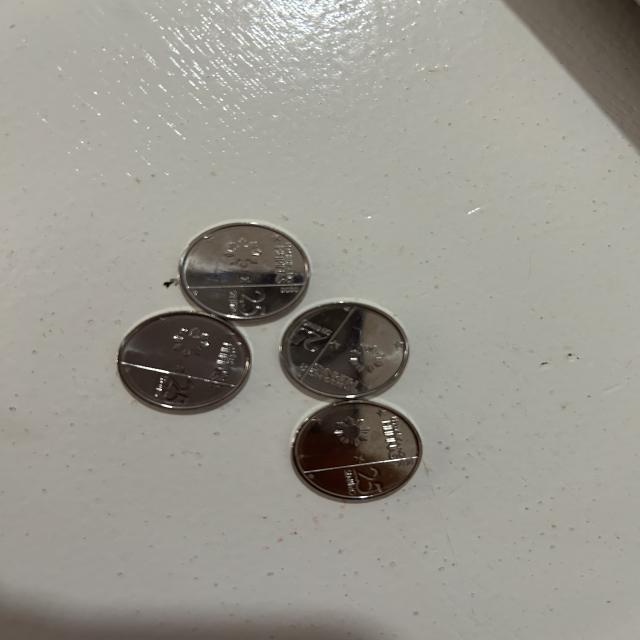25Cent_New_Front: (334, 465, 393, 501), (149, 369, 203, 408), (284, 317, 330, 355), (223, 288, 269, 322)
